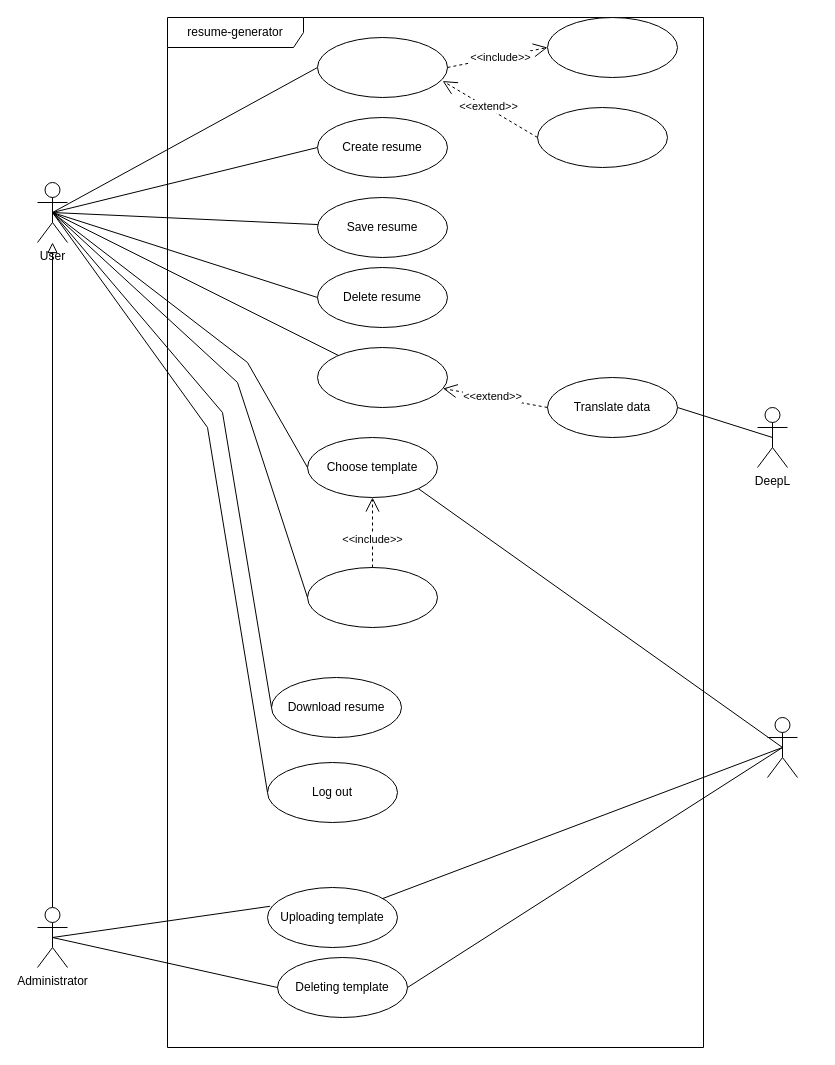
Image size: 835x1065. Some labels were removed from this diagram. Each missing label, with the centre of its shape:
Display login error: the point at 602,137
Edit resume: the point at 382,377
Generate resume: the point at 372,597
Google Drive: the point at 782,747
Log in: the point at 382,67
Verify password: the point at 612,47
